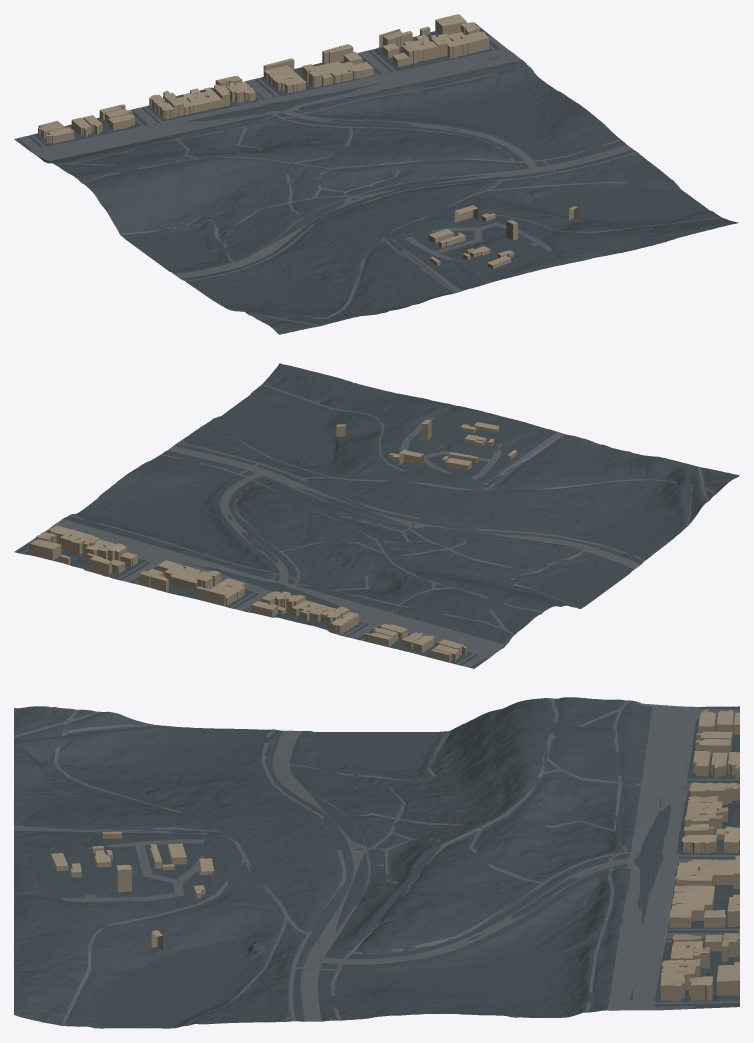
File: epsg26910-1420-10885.lod0.glb
3 views of the same model, one above another, from view 1: azimuth 30°, elevation 25°; view 2: azimuth 150°, elevation 25°; view 3: azimuth 270°, elevation 25° (orthographic). The views are drawn at different scales.
Parts seen in each view (by area): view 1: epsg26910-1420-10885-lod0; view 2: epsg26910-1420-10885-lod0; view 3: epsg26910-1420-10885-lod0.
Boxes of the visible parts, x1,y1,x2,y2 form: epsg26910-1420-10885-lod0: (14,14,738,334); epsg26910-1420-10885-lod0: (14,363,739,668); epsg26910-1420-10885-lod0: (14,697,739,1028).
Size of the model in its own units: 384 by 28.23 by 384.
